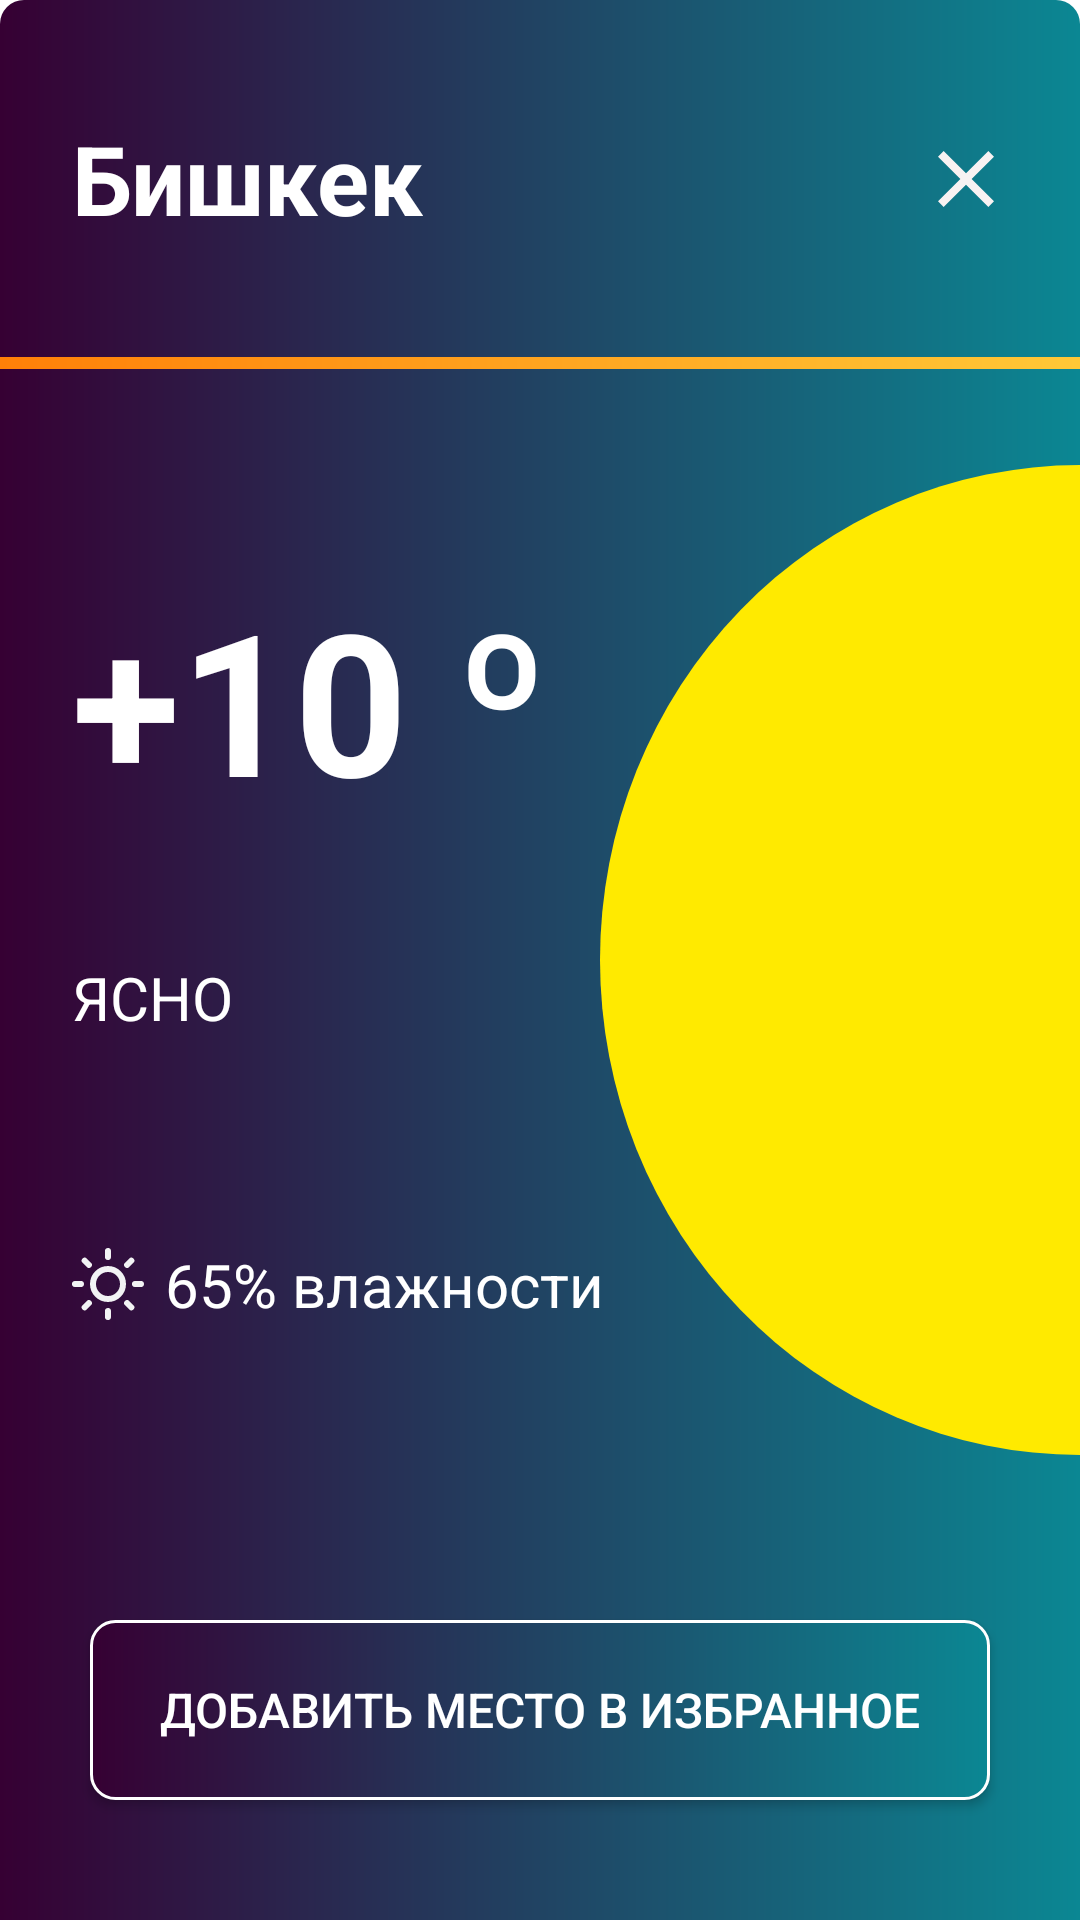

Icons on this 1080×1920 Android screen, each with its box as [x1, y1, x2, y2]:
clear: [938, 151, 994, 207]
sun: [72, 1248, 144, 1320]
